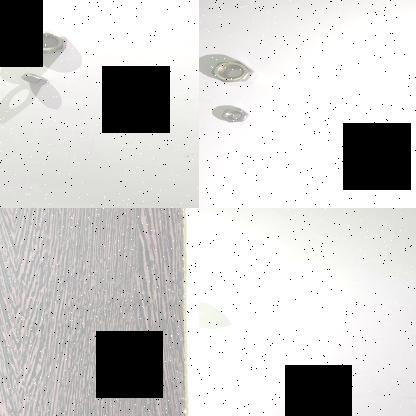NUTS: (7, 29, 77, 56), (208, 58, 256, 84), (14, 70, 58, 85), (218, 107, 252, 124)
